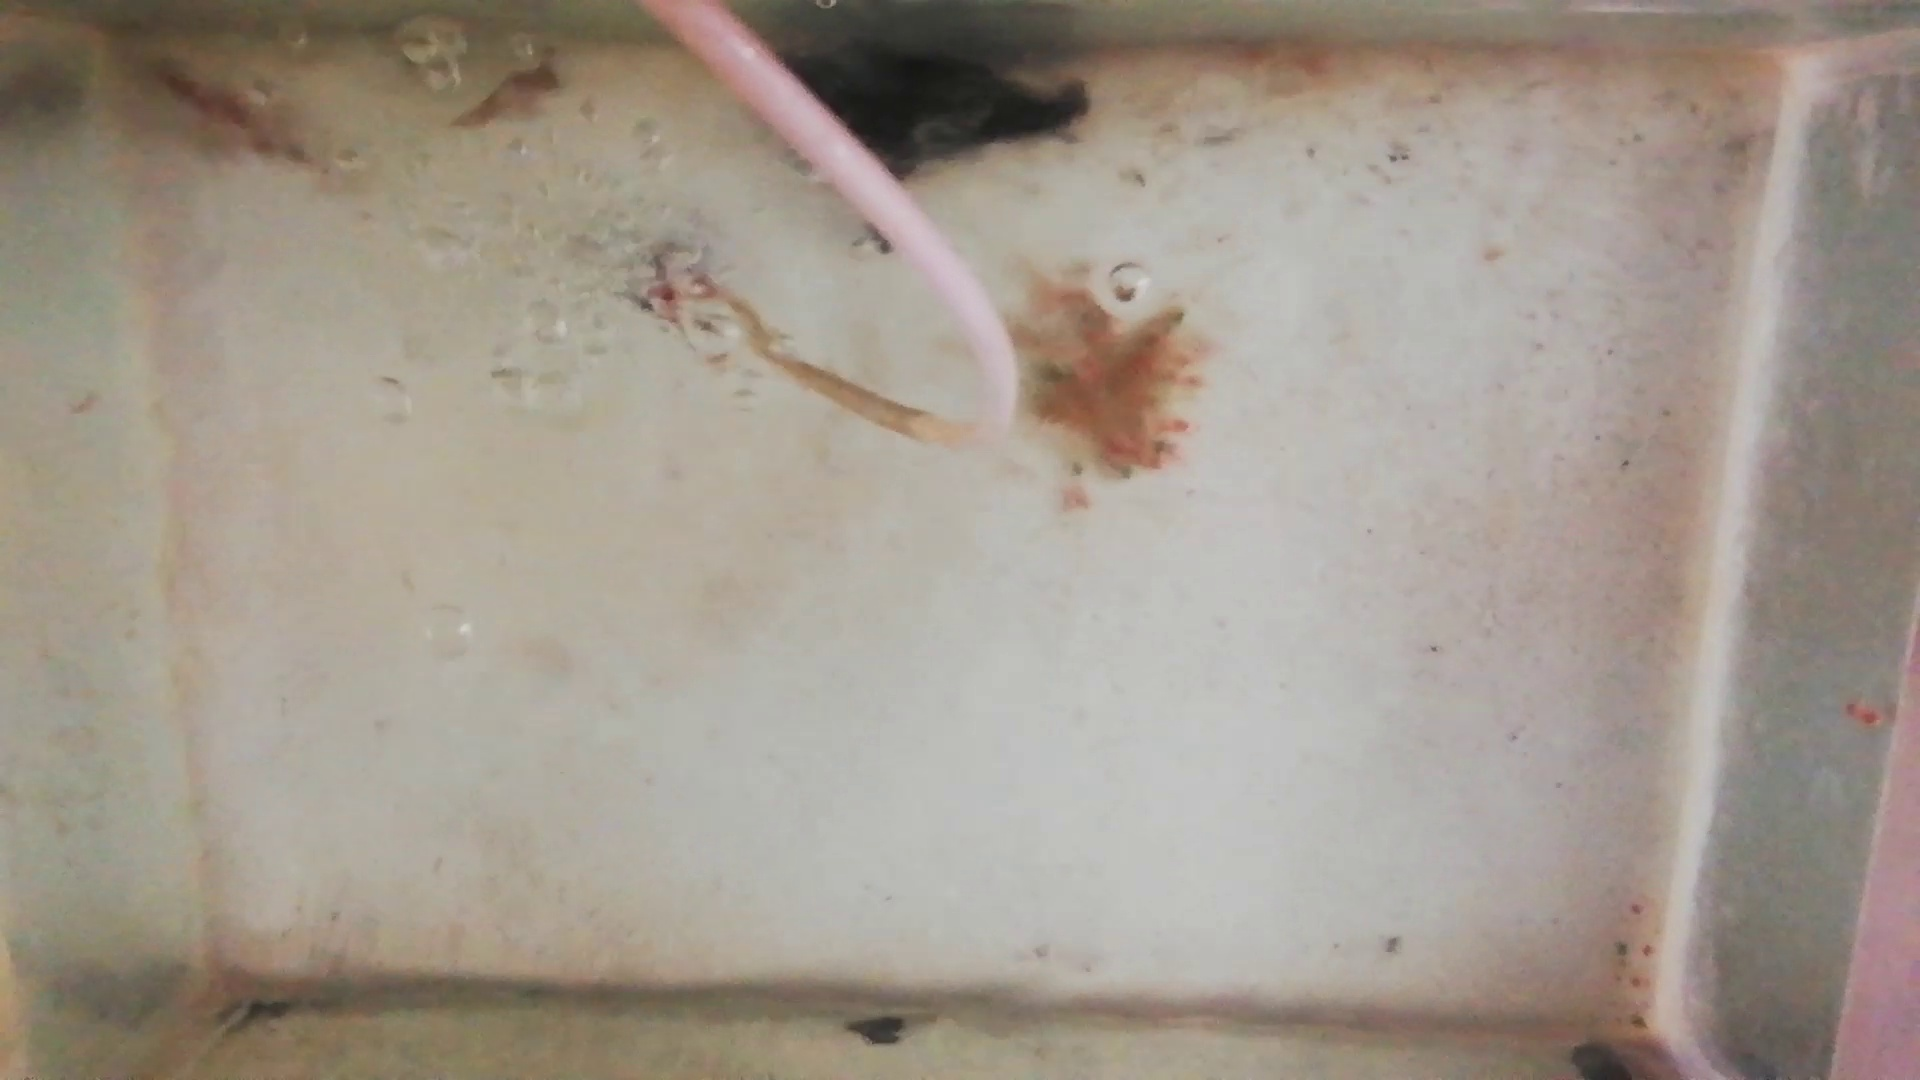fish: (138, 66, 328, 175), (452, 66, 564, 128)
